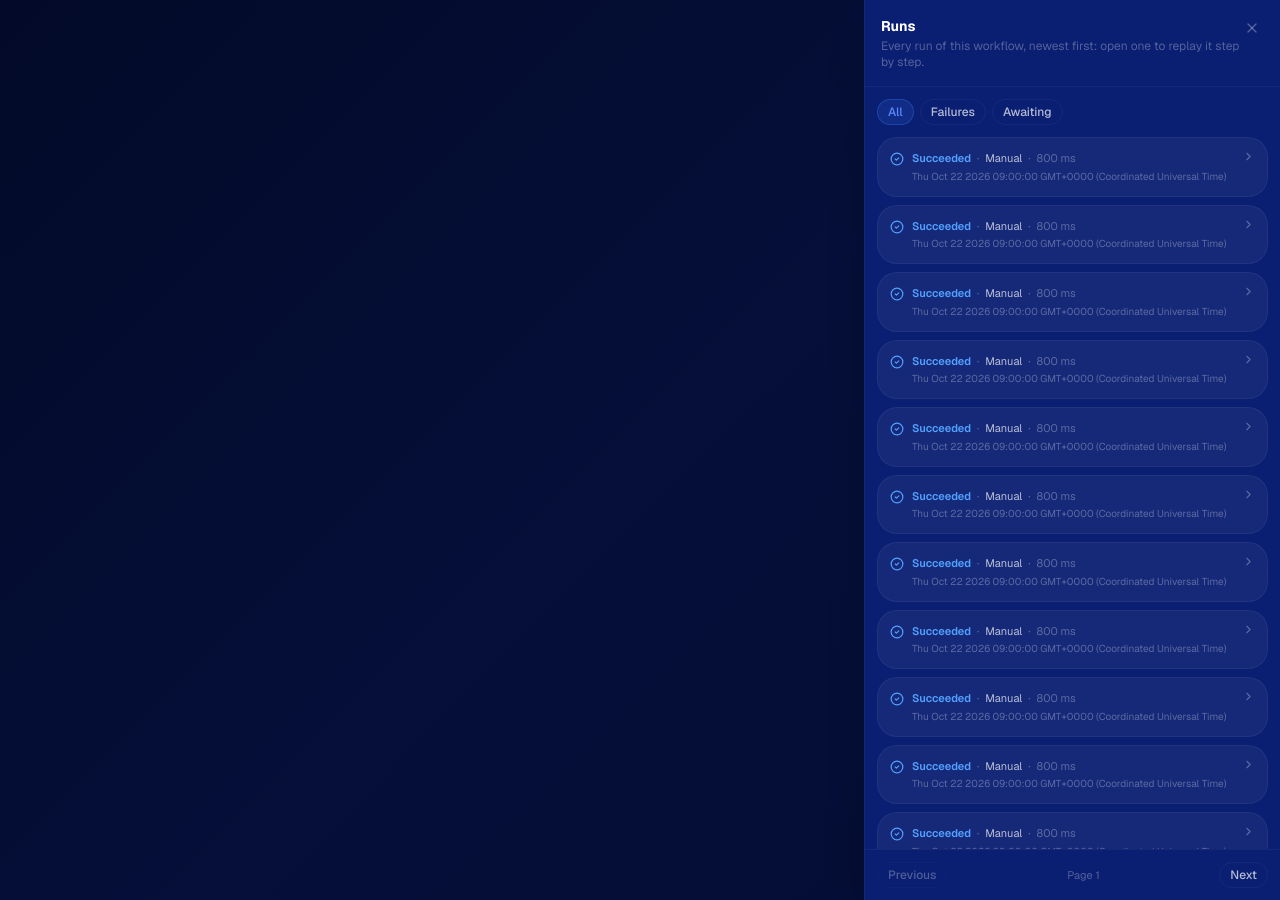
RunsDrawer › pages through the runs
The width and height of the screenshot is (1280, 900).
Expected: the list item with test id "run-row-p0" is shown, [877,137,1268,196]
Expected: the button "Previous" is disabled, [877,862,948,888]
Click the button "Next": [1244, 875] box [1219,862,1268,888]
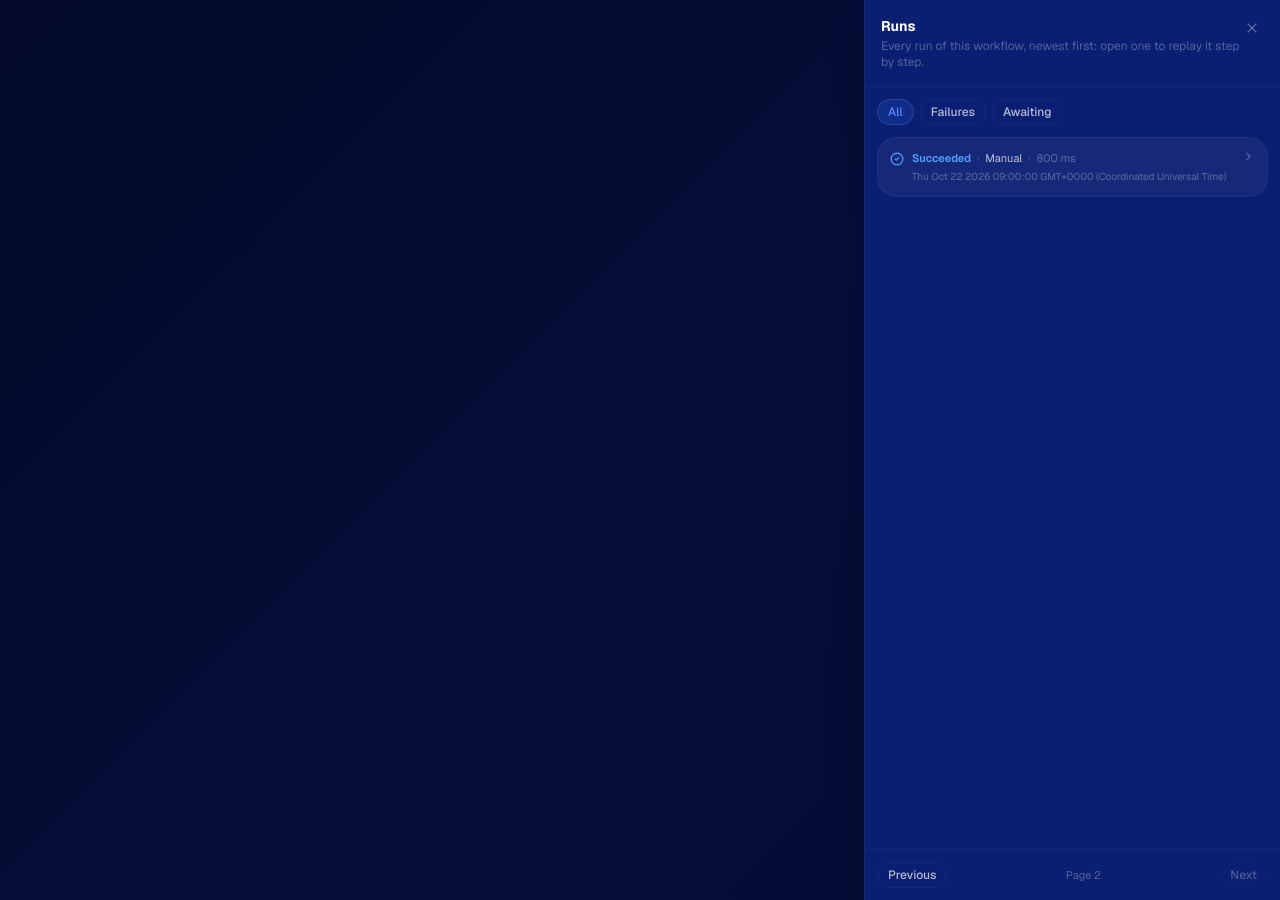
Expected: the list item with test id "run-row-q0" is shown, [877,137,1268,196]
Expected: the button "Next" is disabled, [1219,862,1268,888]
